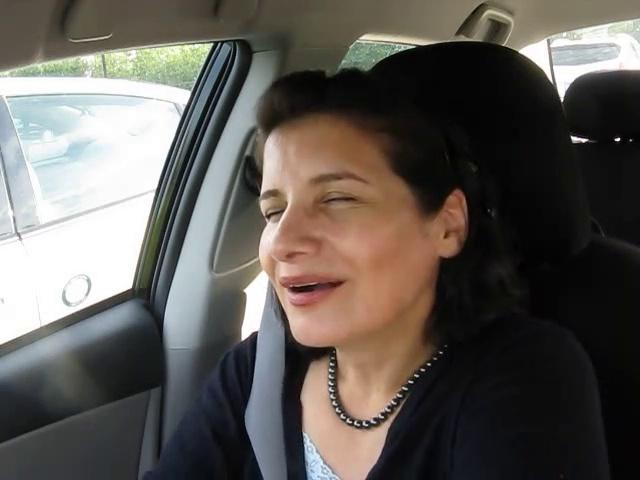close_eyeL: (246, 194, 296, 232)
close_eyeR: (300, 179, 379, 221)
yawn: (268, 259, 359, 316)
